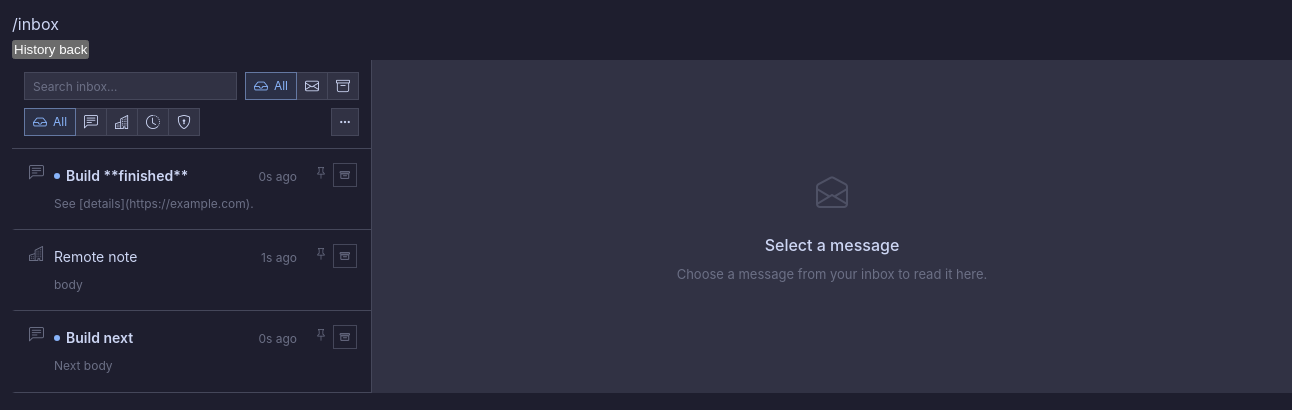
Inbox › opens the next filtered message when archiving through row
Check: the button that starts with "Build **finished**" is shown, box [44, 149, 311, 229]
Step 1. Click the radio button named "Primary" → (91, 122), box [75, 108, 107, 136]
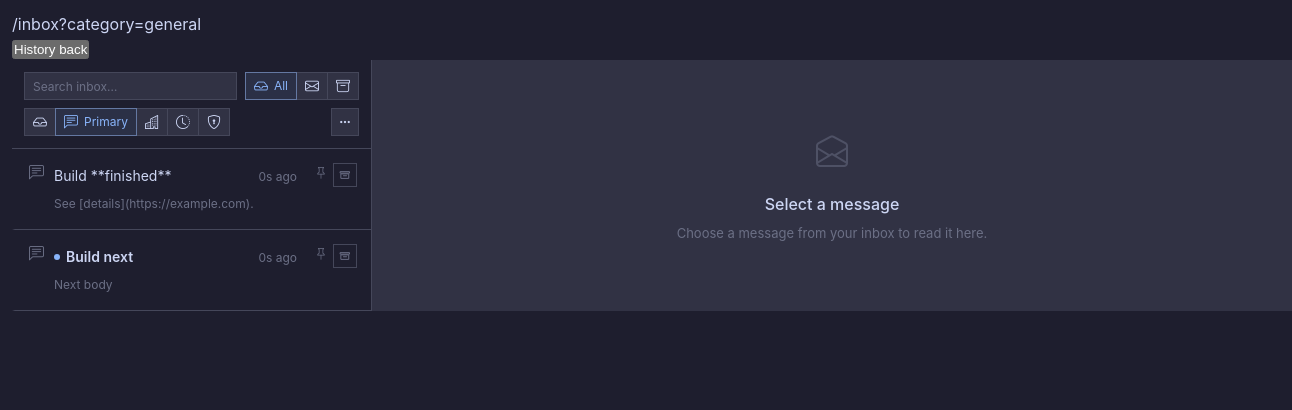
Step 2. Type "Build" into the search field labelled "Search inbox" → (130, 86), box [24, 72, 237, 100]
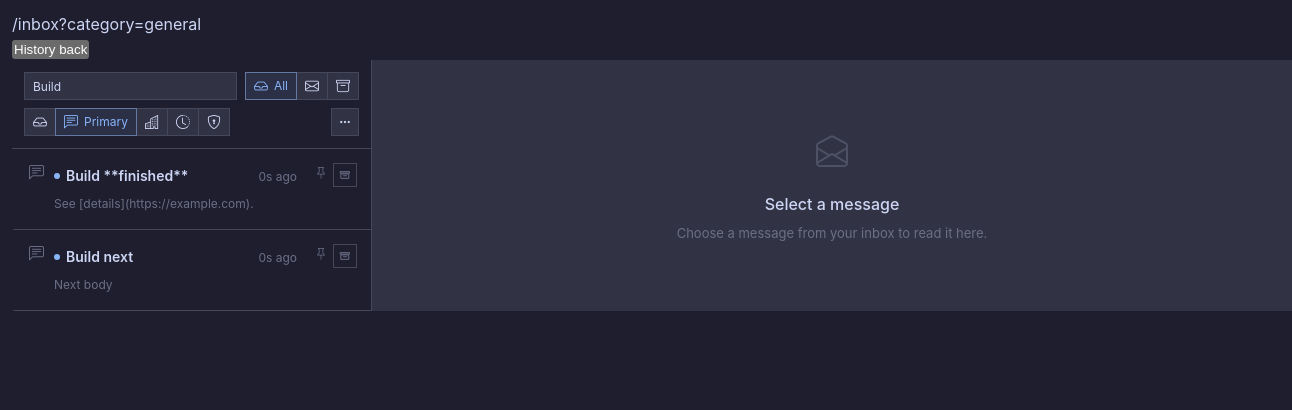
Step 3. Click the button that starts with "Build **finished**" → (127, 176), box [44, 149, 311, 229]
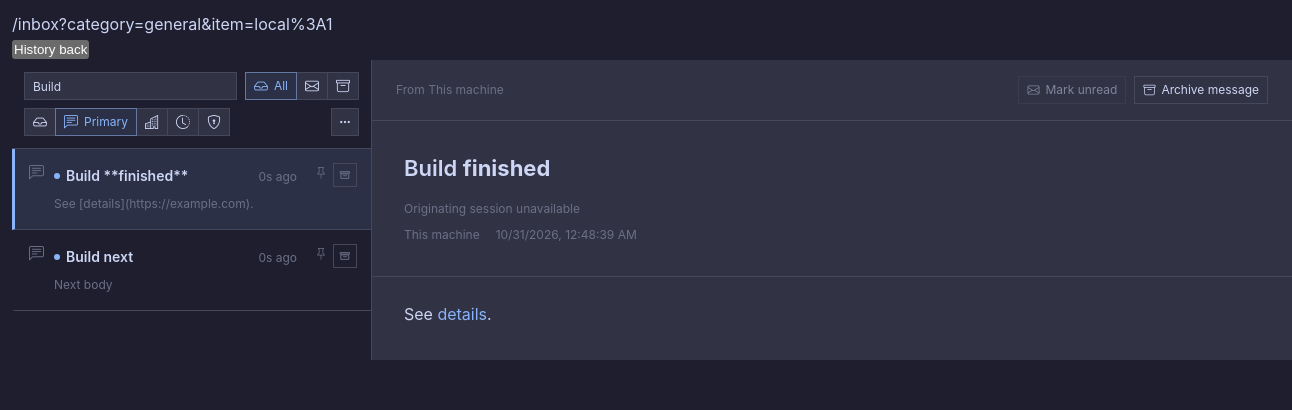
Step 4. Click the 1st button named "Archive" → (345, 175), box [333, 163, 357, 187]
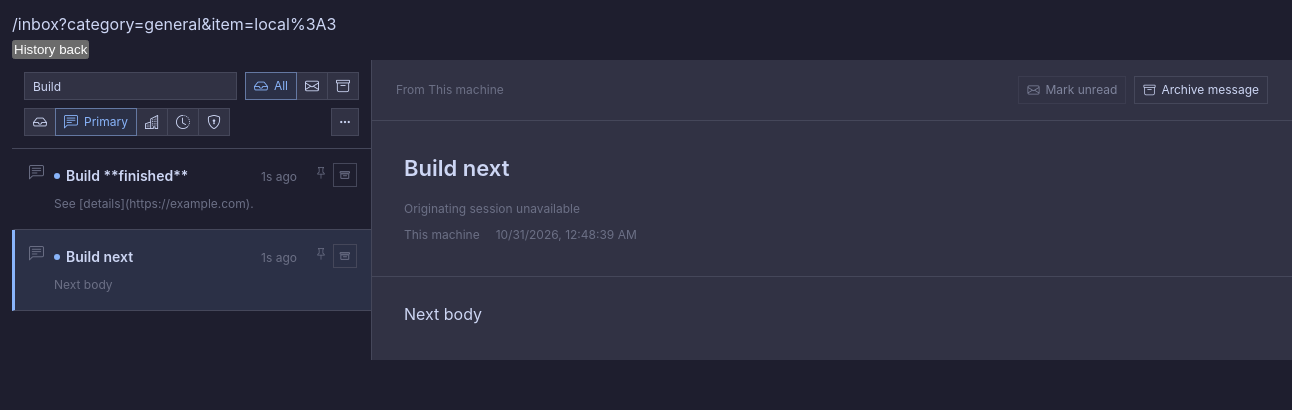
Check: the heading "Build next" is shown, box [404, 155, 509, 181]
